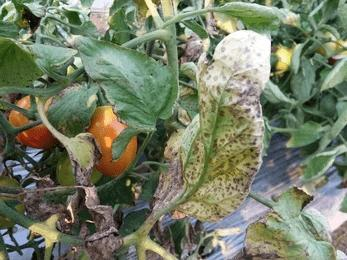Bacterial Spot: (154, 28, 274, 222), (73, 33, 172, 131)
